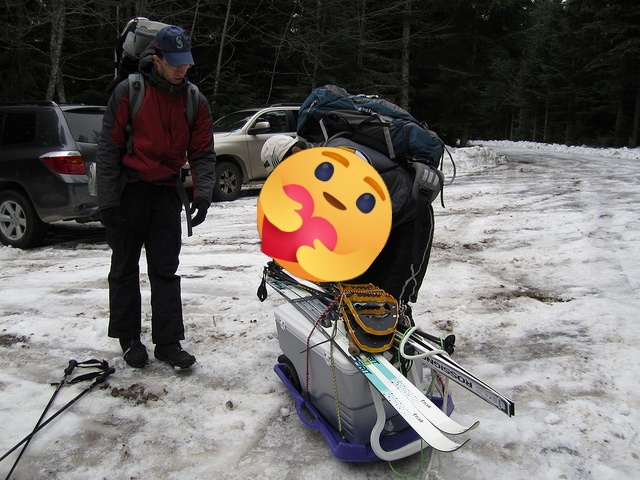care: (257, 147, 392, 282)
